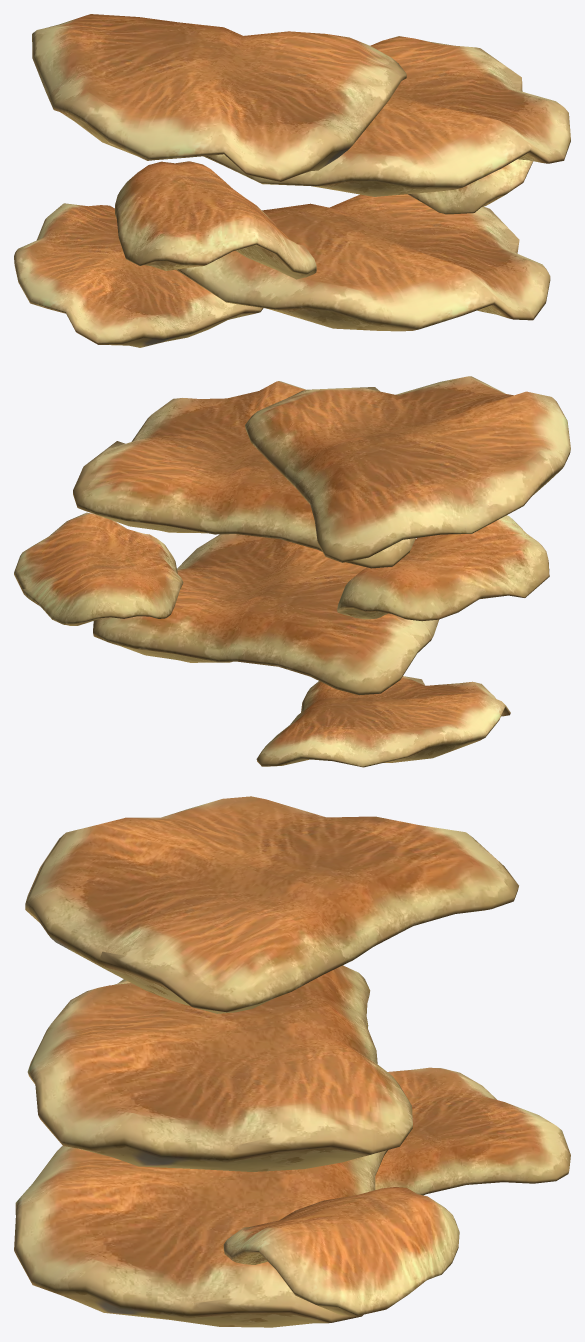
The model's file is Mushroom_Laetiporus.glb.
3 renders of one model, top to bottom at view 1: azimuth 30°, elevation 25°; view 2: azimuth 150°, elevation 25°; view 3: azimuth 270°, elevation 25°, orthographic. The views are drawn at different scales.
Parts seen in each view (by area): view 1: Mushroom_Laetiporus; view 2: Mushroom_Laetiporus; view 3: Mushroom_Laetiporus.
Part boxes in pixels (bbox=[...]): Mushroom_Laetiporus: bbox=[14, 14, 570, 347]; Mushroom_Laetiporus: bbox=[14, 376, 570, 767]; Mushroom_Laetiporus: bbox=[14, 796, 570, 1327].
Size of the model in its own units: 1.37 by 0.767 by 1.1.
Materials: 1 (1 with a texture image).
